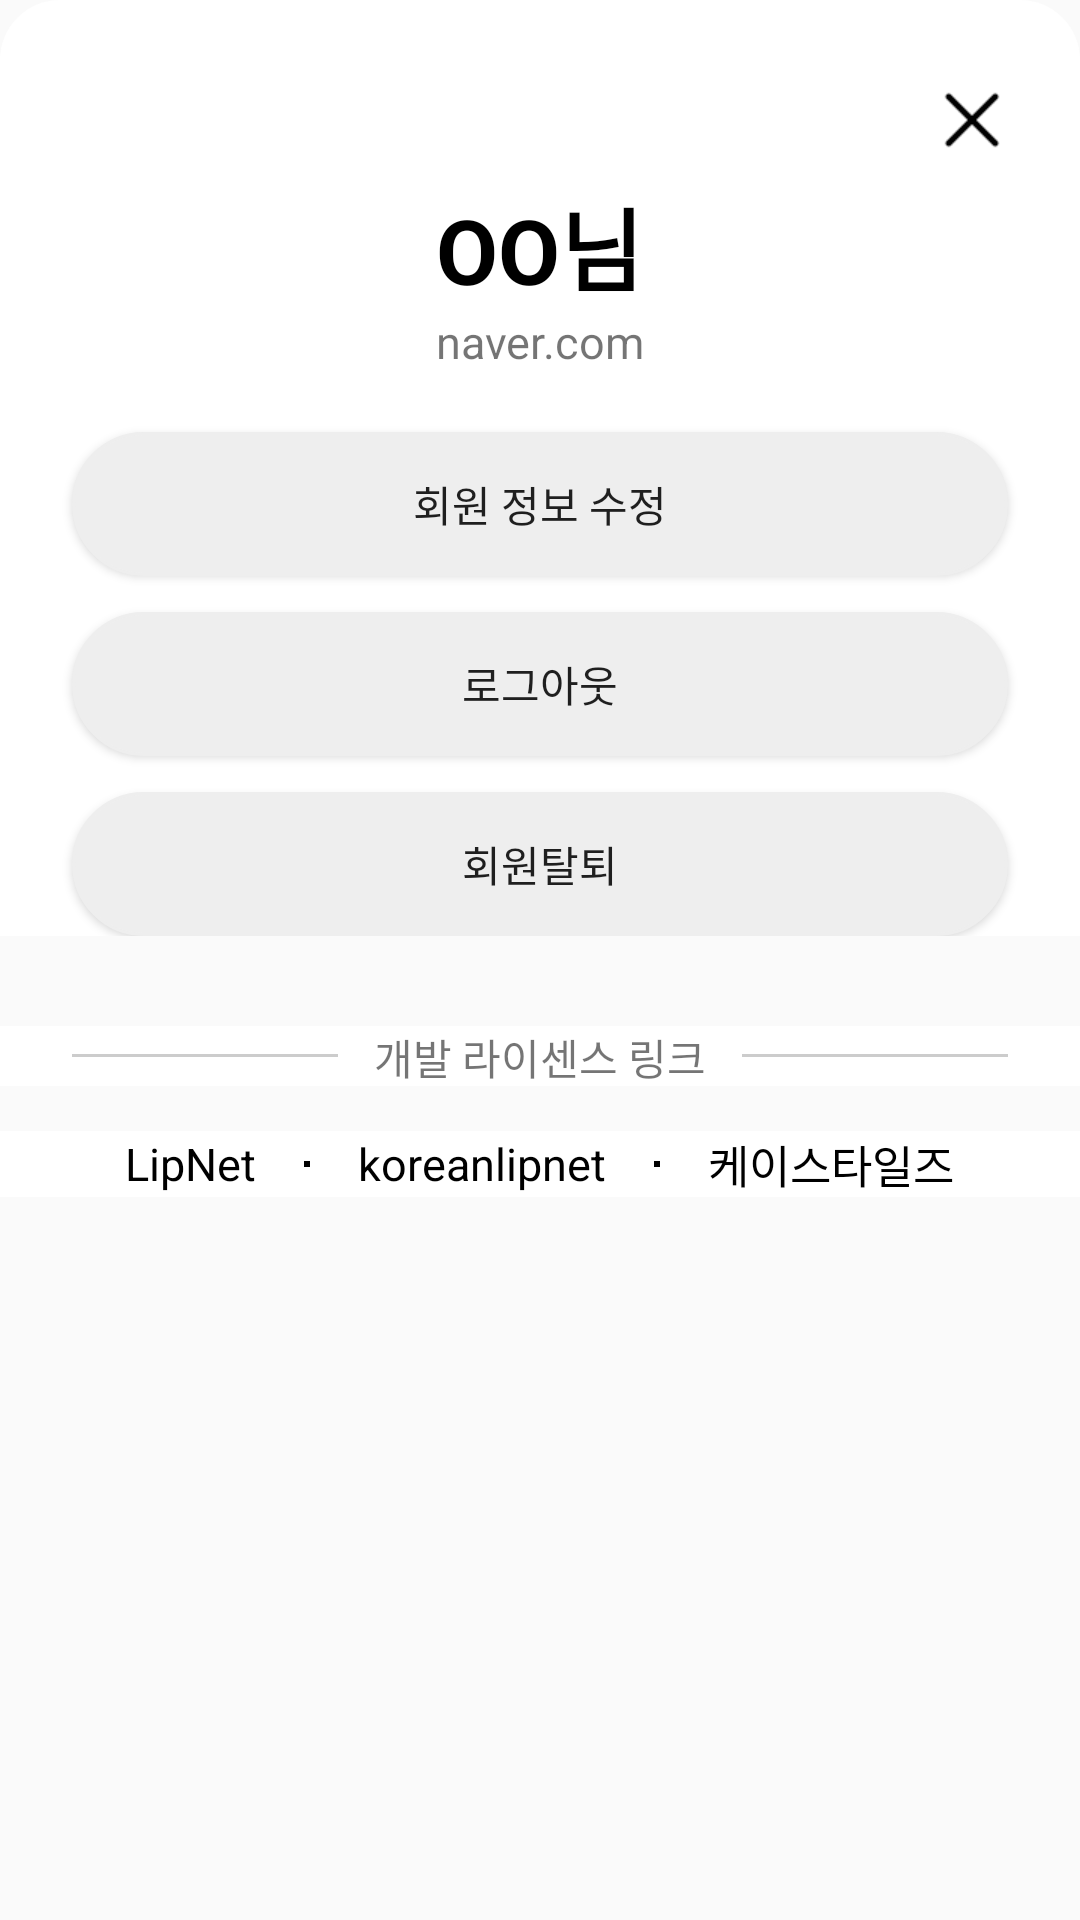

Where to tap for icons on this 1080×1920 app screen, as point (x, y):
close: point (972, 120)
